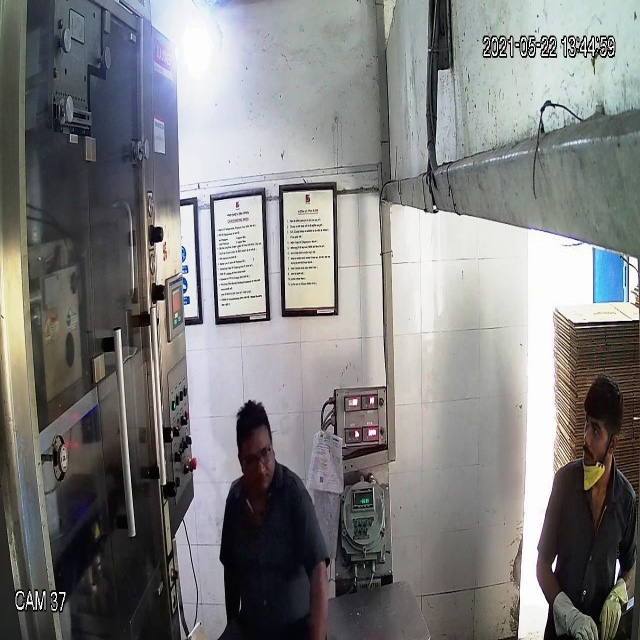Gafas: (235, 445, 278, 473)
Sin_gafas: (580, 415, 620, 446)
